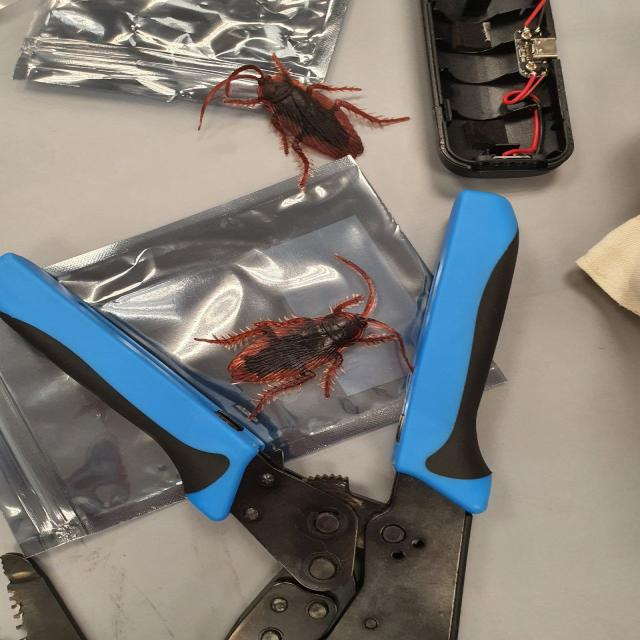Cockroach: (198, 250, 408, 404), (196, 48, 412, 196)
